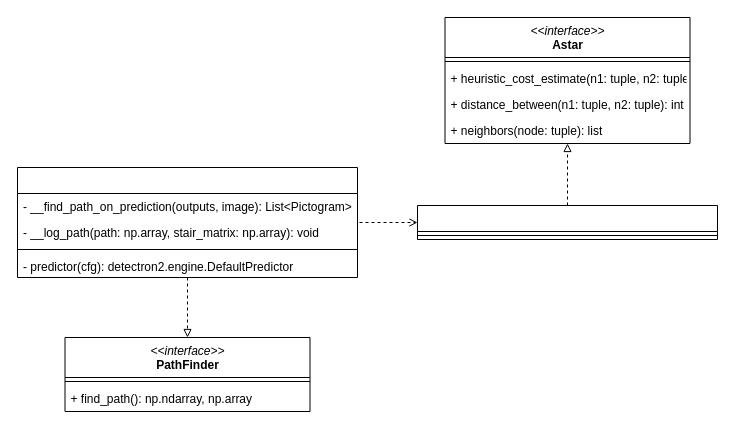
This 739x432 diagram has some shape labels left out. Here are the shapes that lost their labels. From the top down, the box of each, then its label:
(16, 166, 358, 278): Detectron2PathFinder
(416, 204, 718, 240): AstarFinder
